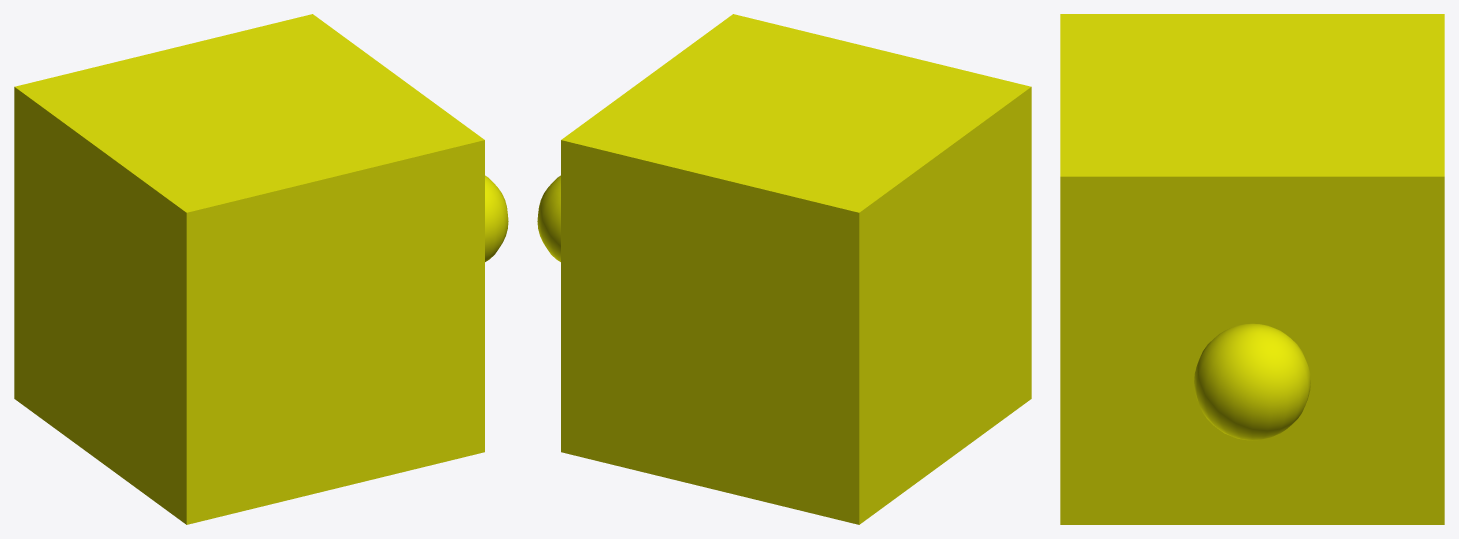
File: PRE-LD_TEST_V4.fbx
The picture shows the model from 3 angles, left to right: view 1: azimuth 30°, elevation 25°; view 2: azimuth 150°, elevation 25°; view 3: azimuth 270°, elevation 25°; orthographic projection. The views are drawn at different scales.
Parts seen in each view (by area): view 1: pCube1, pSphere1; view 2: pCube1, pSphere1; view 3: pCube1, pSphere1.
Boxes of the visible parts, x1=… form: pCube1: x1=14, y1=14, x2=484, y2=524; pSphere1: x1=485, y1=175, x2=508, y2=261; pCube1: x1=561, y1=14, x2=1031, y2=524; pSphere1: x1=537, y1=175, x2=560, y2=261; pCube1: x1=1060, y1=14, x2=1444, y2=524; pSphere1: x1=1194, y1=323, x2=1310, y2=440.
Bounding box in the file's own units: 8.84 × 6.57 × 6.57.
